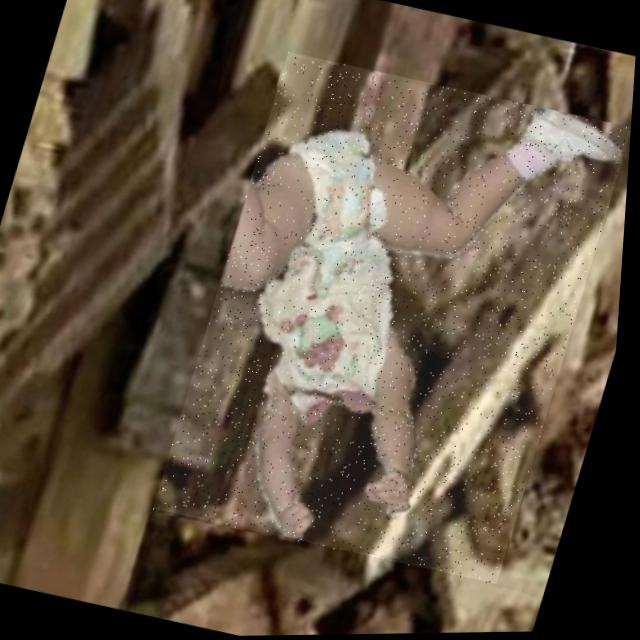Person in Rubble: (154, 49, 637, 591)
